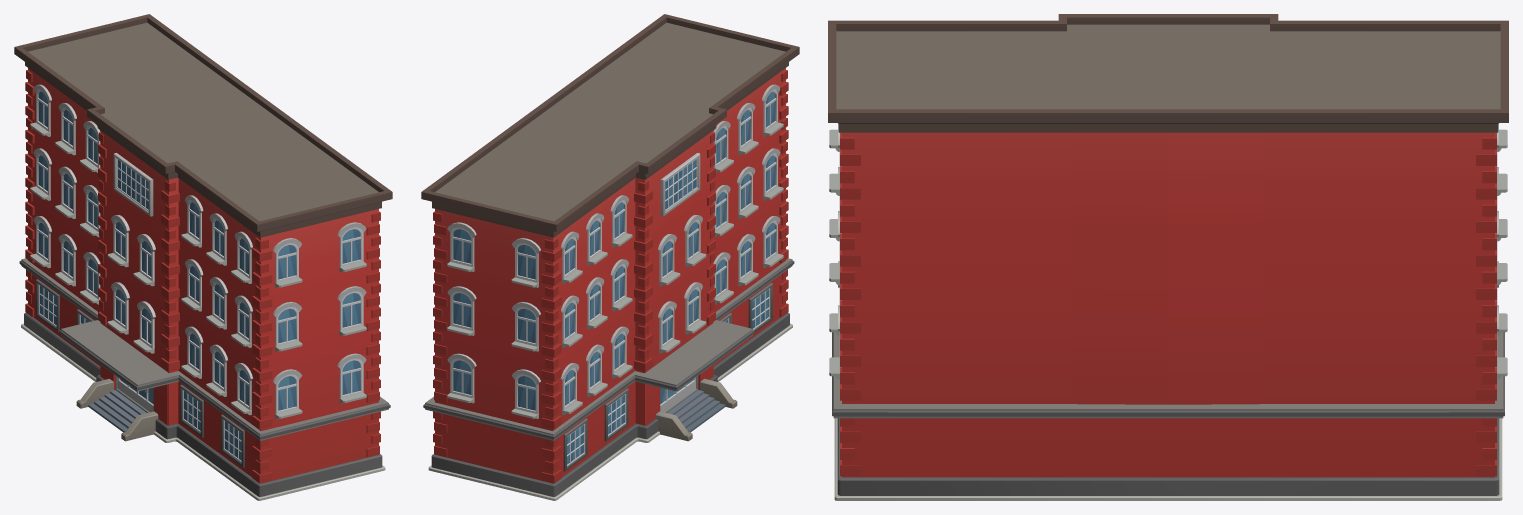
File: Building_6_J.fbx
3 views of the same model, side by side, from view 1: azimuth 30°, elevation 25°; view 2: azimuth 150°, elevation 25°; view 3: azimuth 270°, elevation 25° (orthographic). The views are drawn at different scales.
Visible parts, largest first — view 1: Building_6_J; view 2: Building_6_J; view 3: Building_6_J.
Boxes of the visible parts, x1=… form: Building_6_J: x1=14, y1=14, x2=392, y2=500; Building_6_J: x1=421, y1=14, x2=799, y2=500; Building_6_J: x1=828, y1=14, x2=1508, y2=500.
Bounding box in the file's own units: 935 × 1440 × 2273.
